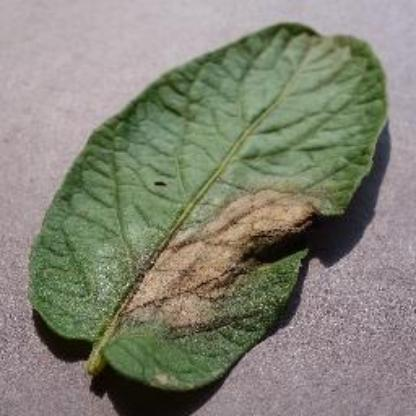Late-Blight: (64, 8, 394, 414)
